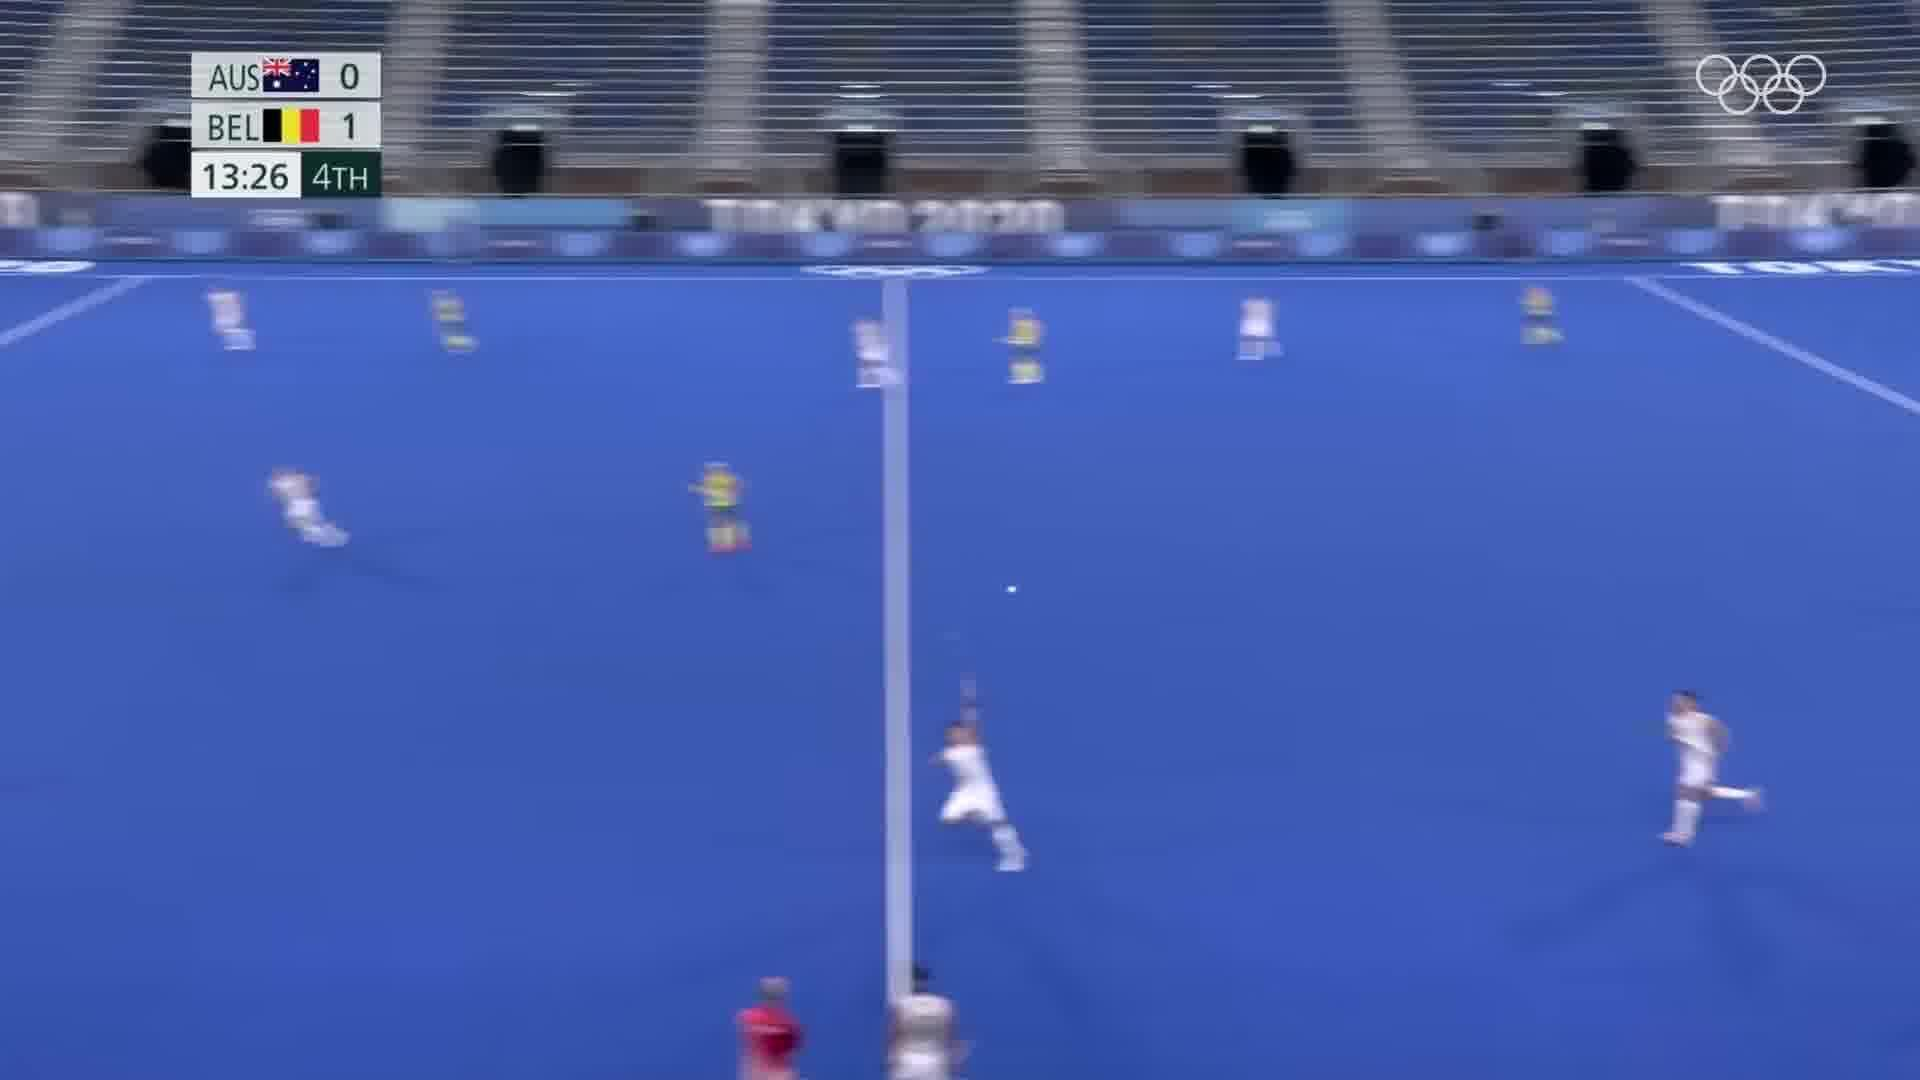ball: (998, 574, 1029, 604)
